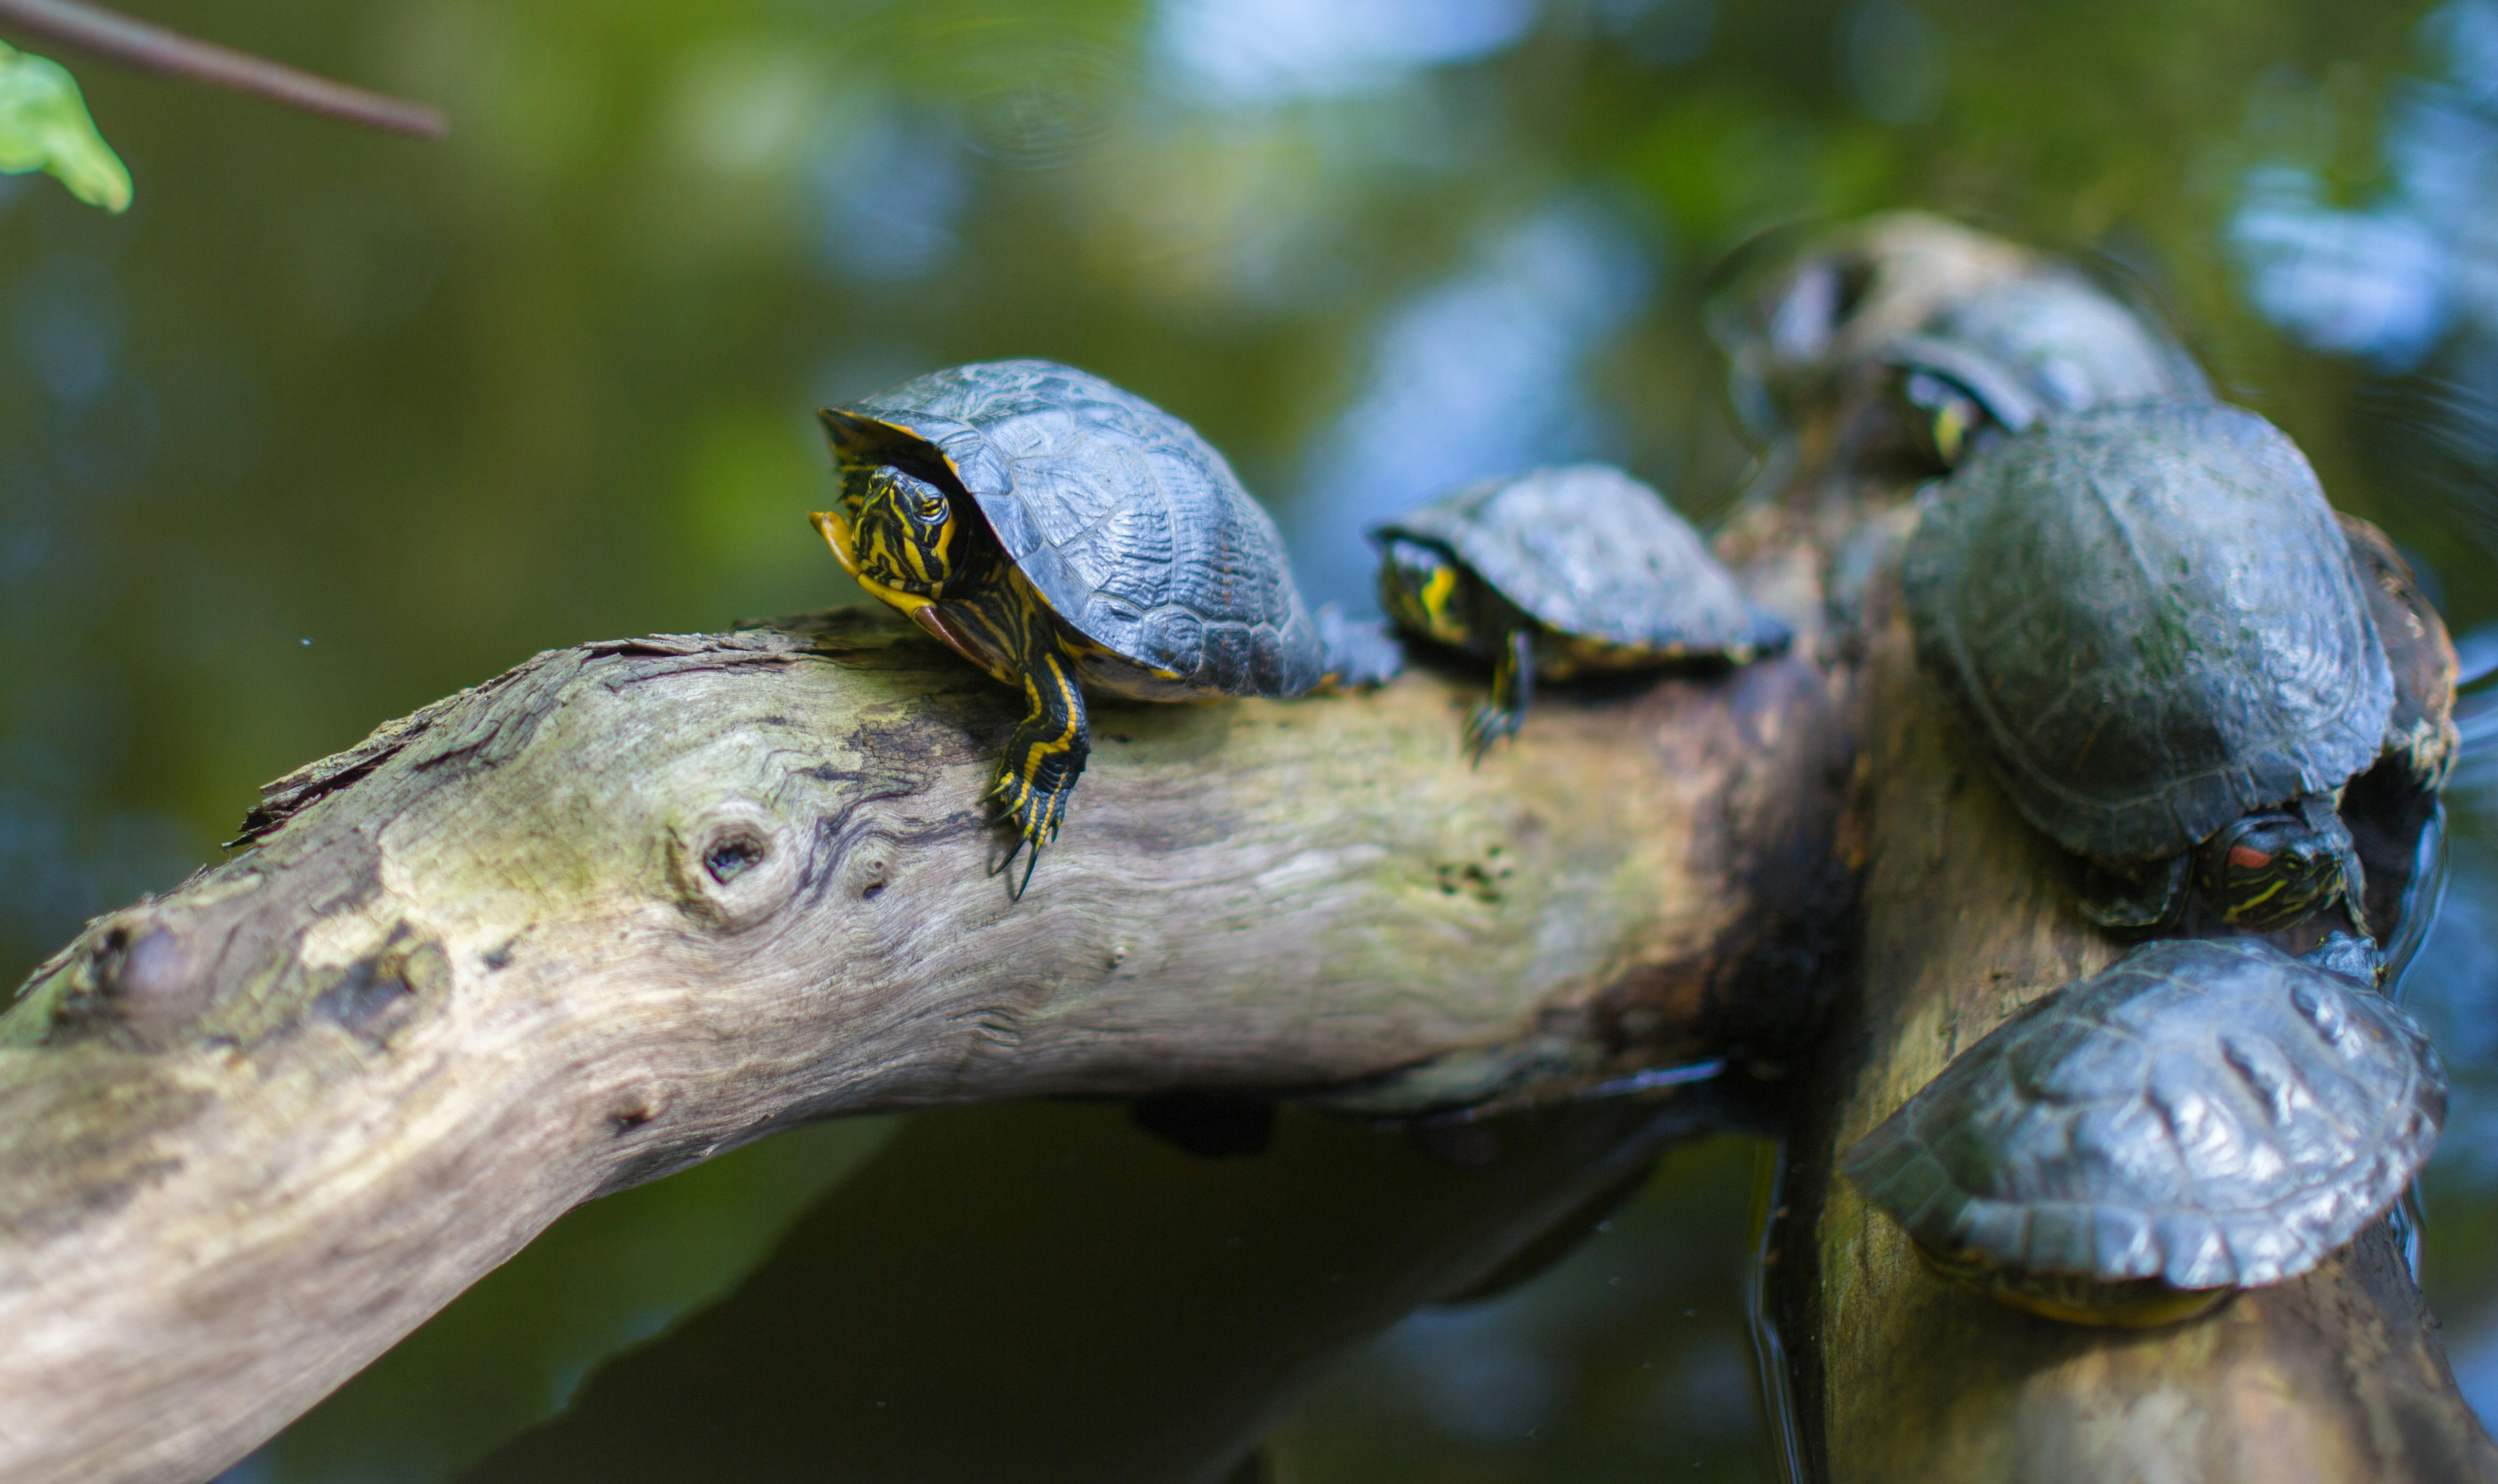turtle: (1896, 389, 2456, 952), (807, 344, 1346, 906), (1839, 919, 2457, 1339), (1346, 449, 1795, 763), (1832, 265, 2199, 495)
